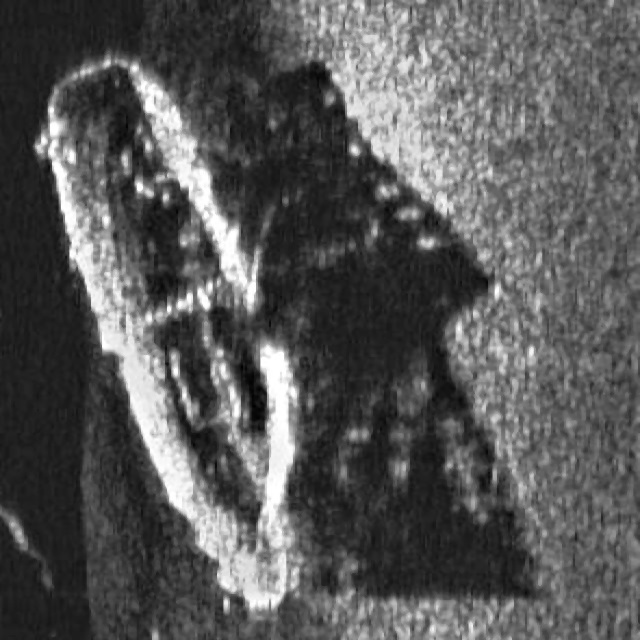Ship: (31, 48, 337, 629)
